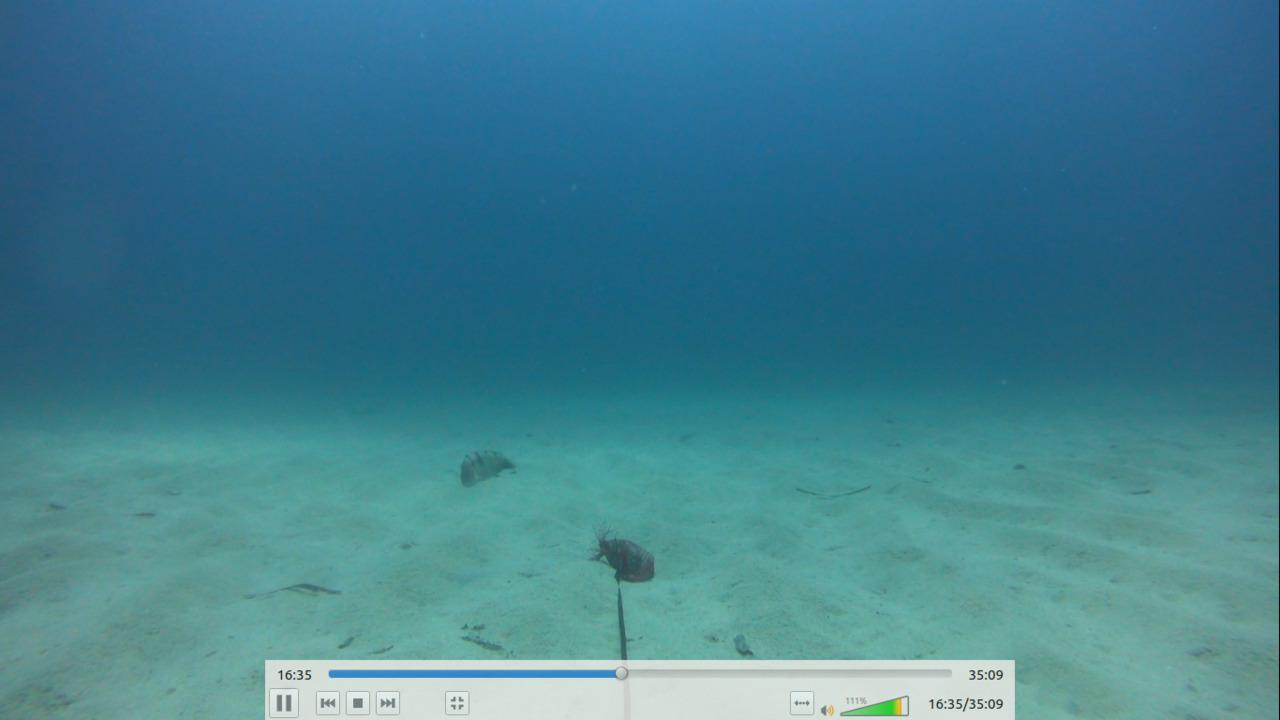raor: (449, 441, 523, 489)
